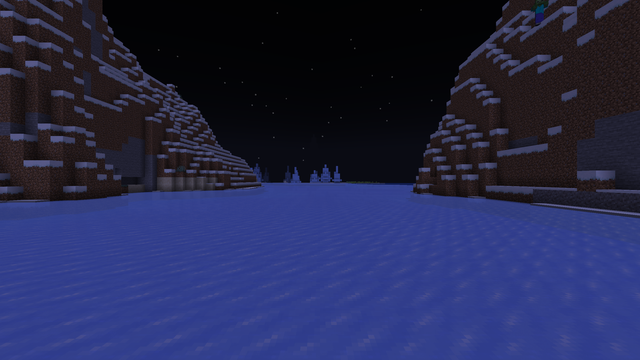zombies: (532, 0, 545, 26)
